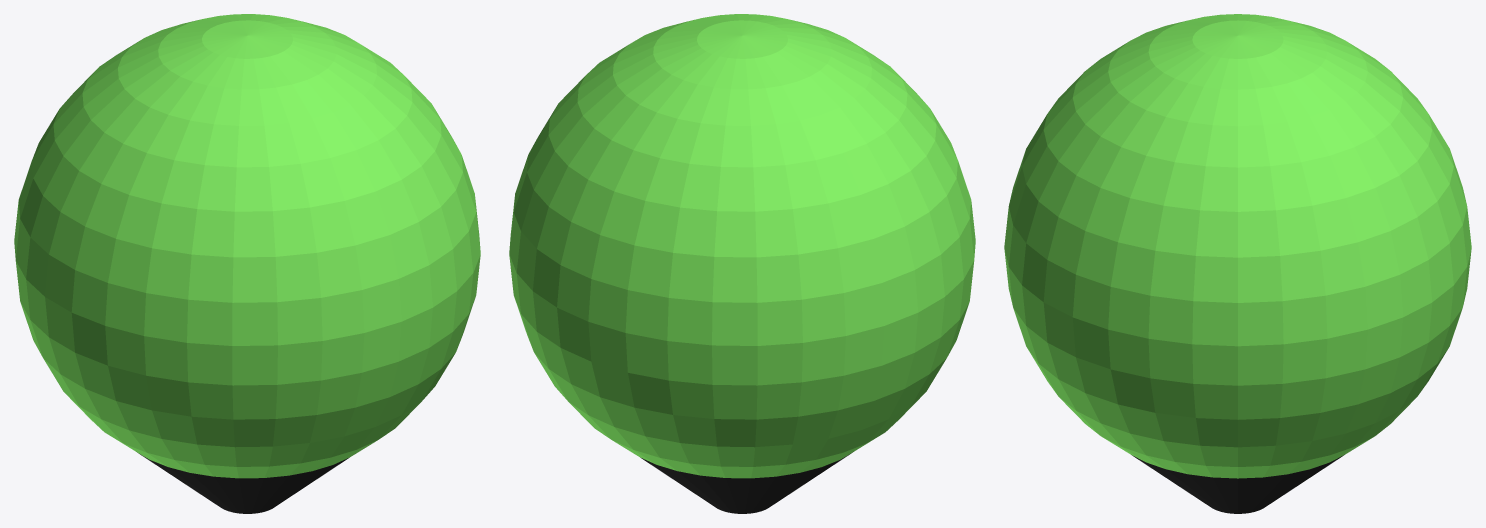
File: green.dae
3 views of the same model, side by side, from view 1: azimuth 30°, elevation 25°; view 2: azimuth 150°, elevation 25°; view 3: azimuth 270°, elevation 25° (orthographic).
Visible parts, largest first — view 1: Sphere, Sphere_001; view 2: Sphere, Sphere_001; view 3: Sphere, Sphere_001.
Boxes of the visible parts, box(x1,y1,x2,y2) form: Sphere: box(14, 14, 480, 478); Sphere_001: box(137, 452, 349, 513); Sphere: box(509, 14, 975, 478); Sphere_001: box(640, 452, 852, 513); Sphere: box(1004, 14, 1471, 478); Sphere_001: box(1132, 455, 1343, 513).
Size of the model in its own units: 2 by 2 by 2.22.
